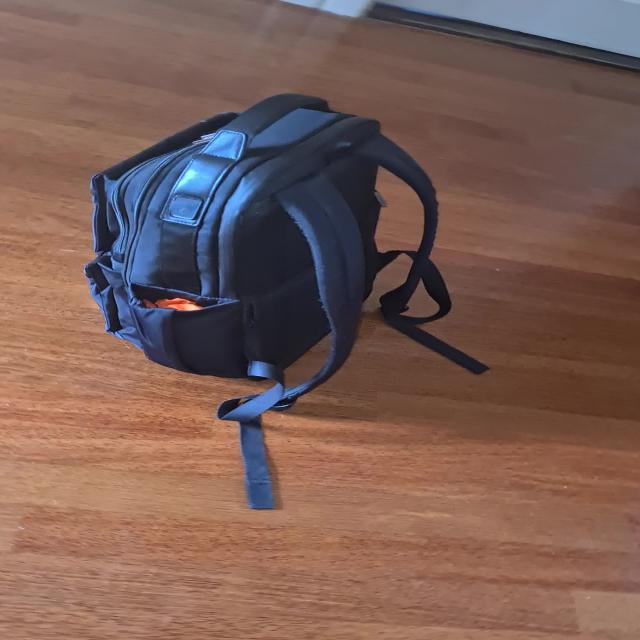backpack: (72, 80, 427, 392)
